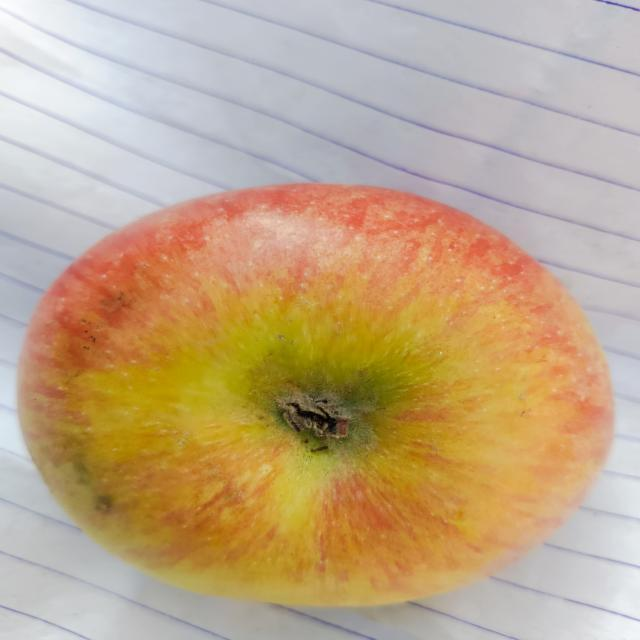Fresh Apple: (32, 195, 600, 590)
